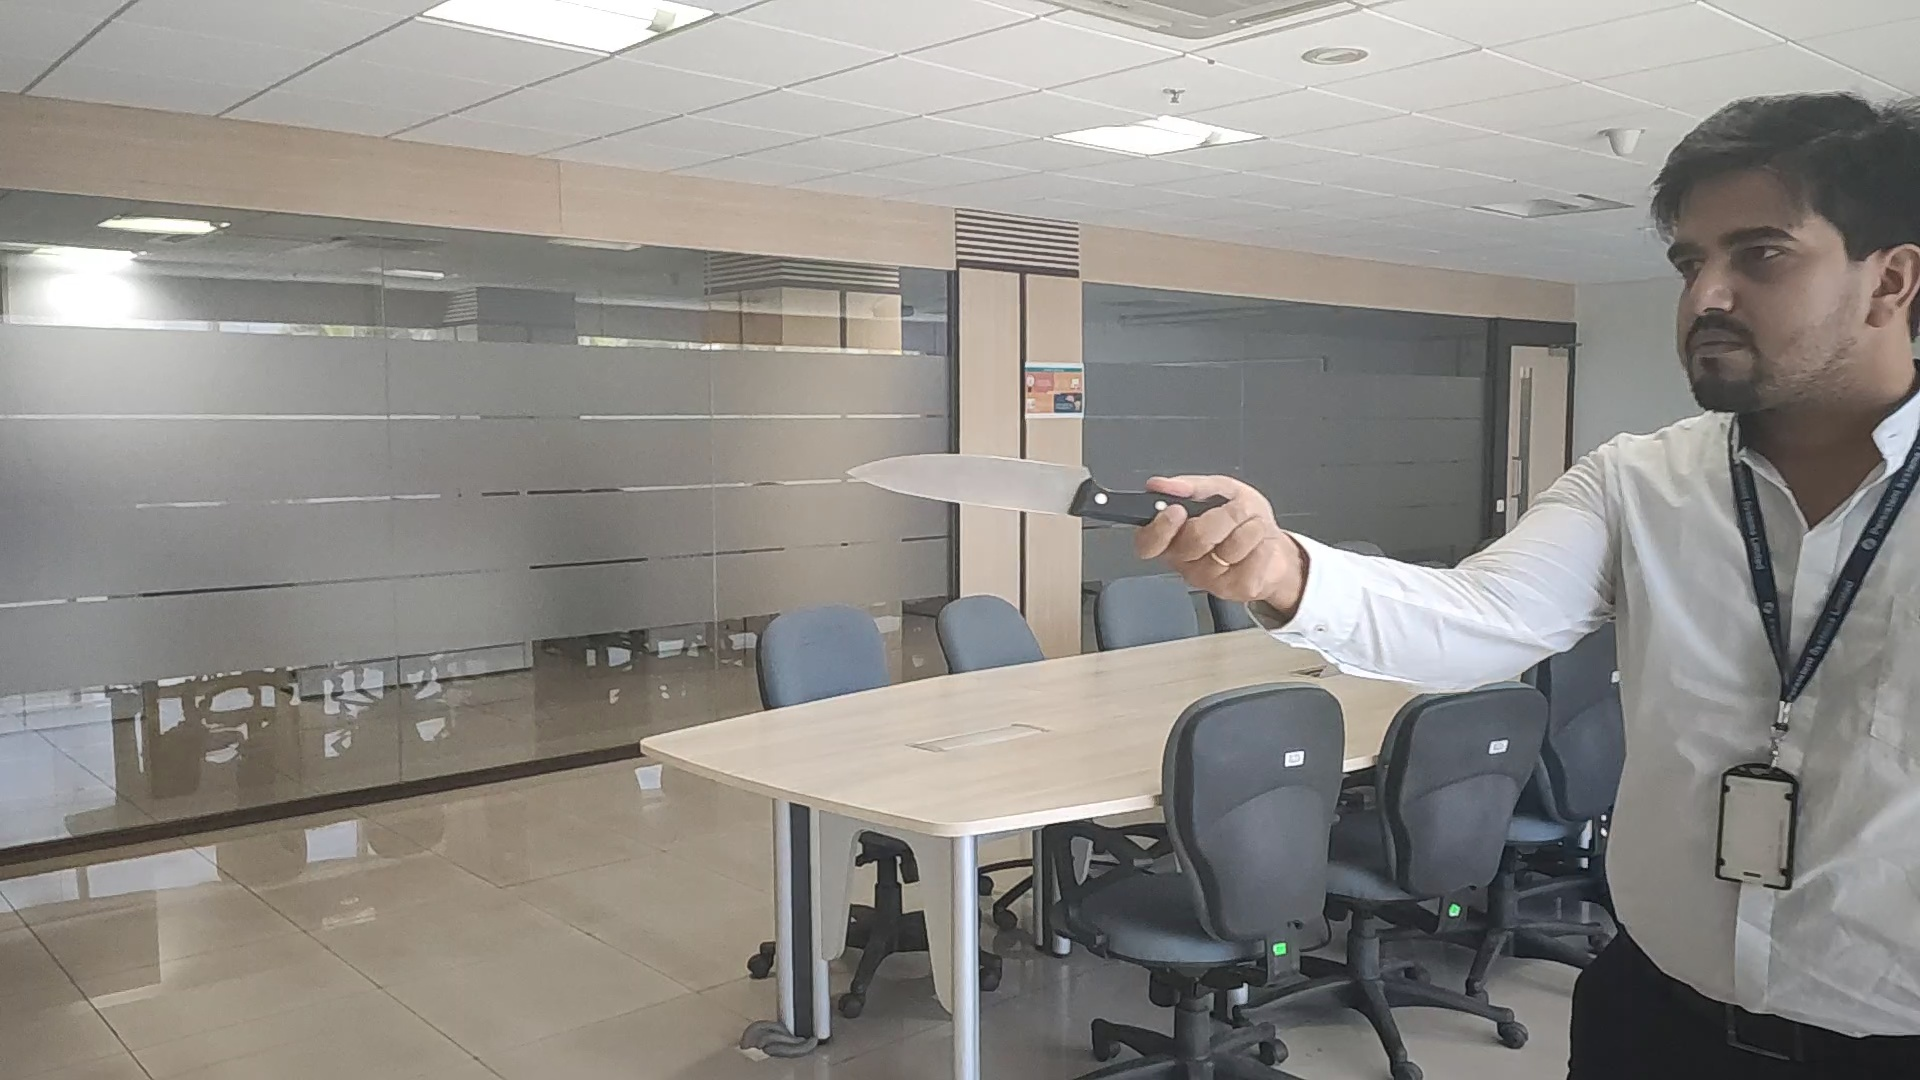knife: (845, 451, 1149, 526)
